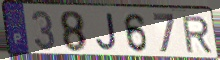3: (30, 9, 57, 53)
6: (122, 12, 149, 55)
7: (151, 12, 178, 55)
8: (59, 9, 89, 54)
J: (95, 12, 118, 53)
R: (181, 15, 214, 55)
